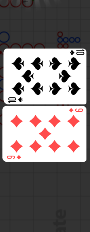10C: (6, 96, 23, 104)
9D: (5, 154, 22, 161)
